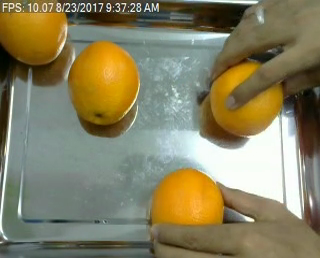Orange: (69, 40, 141, 124), (1, 1, 69, 66)
